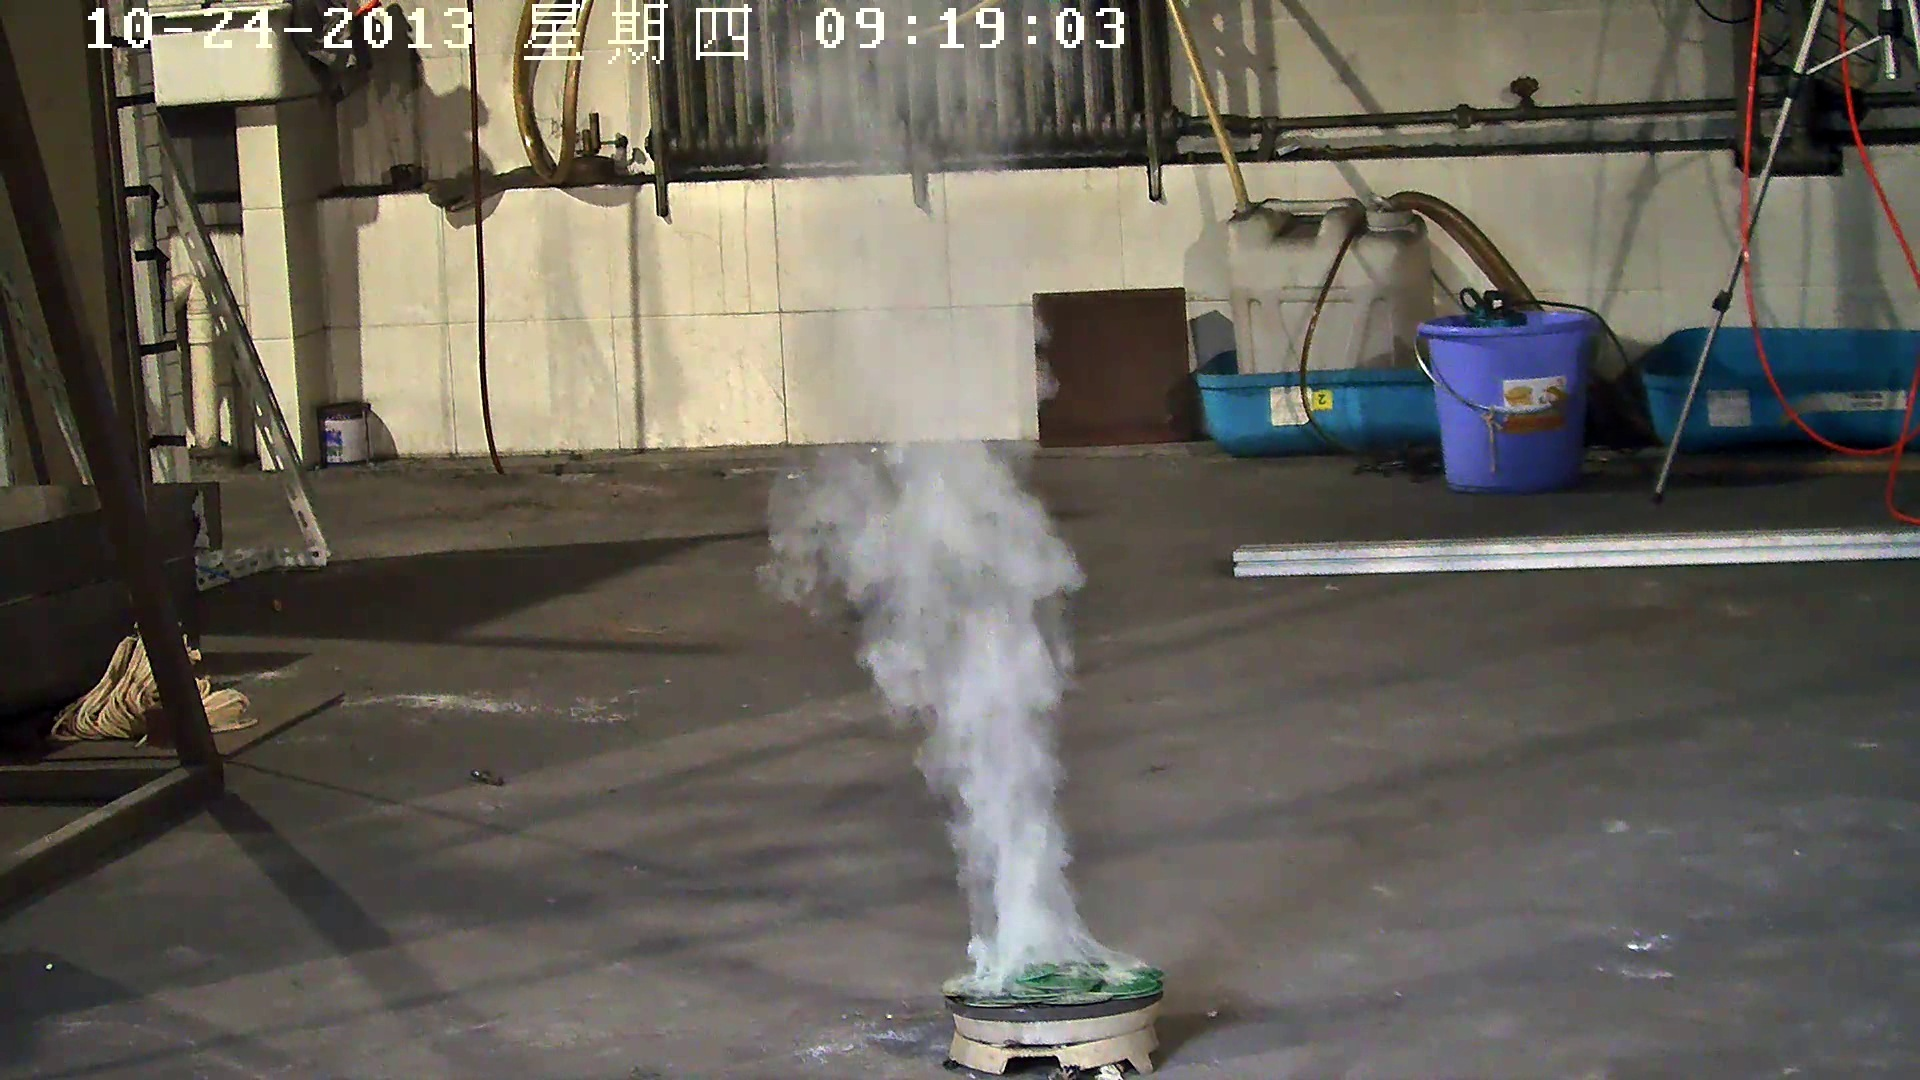smoke: (754, 185, 1197, 986)
